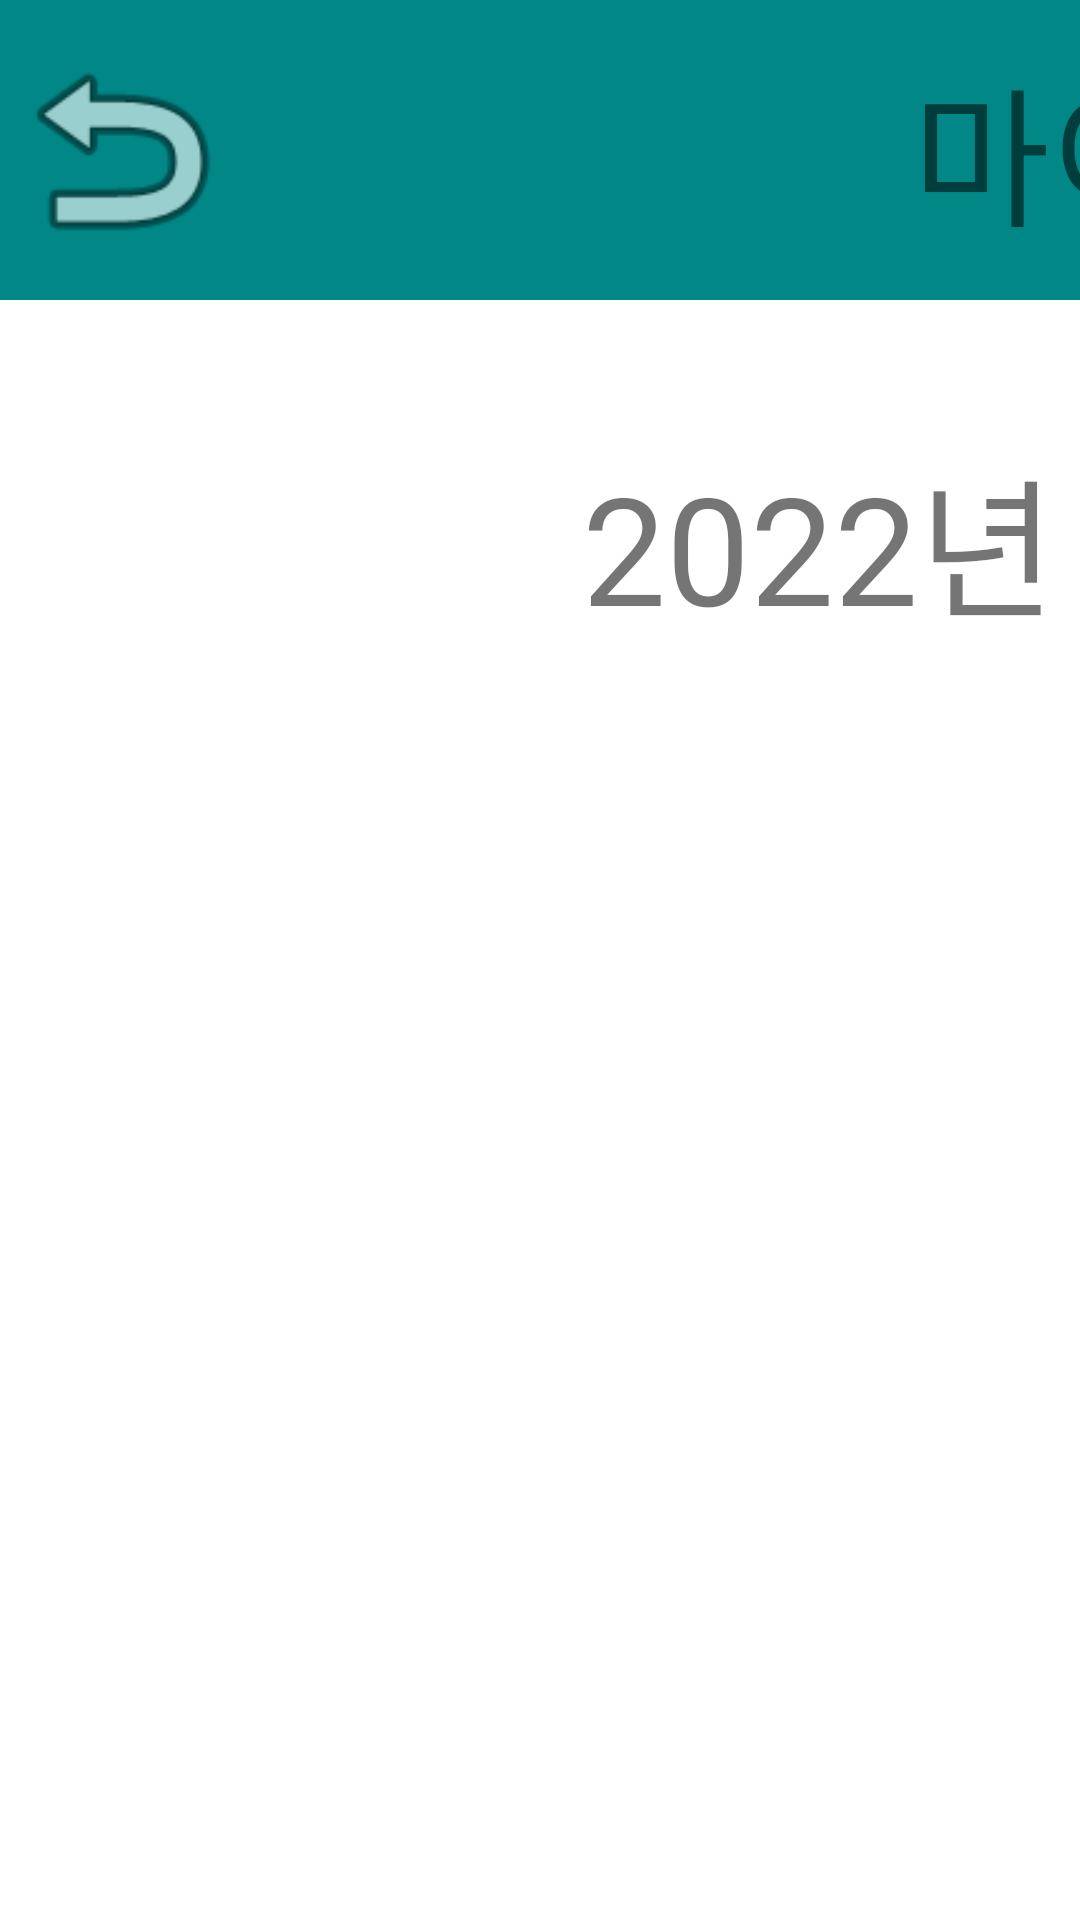

Screen size 1080 x 1920. Icon name, then its box in pixels as (x1, y1, x2, y2):
revert: (37, 74, 209, 229)
